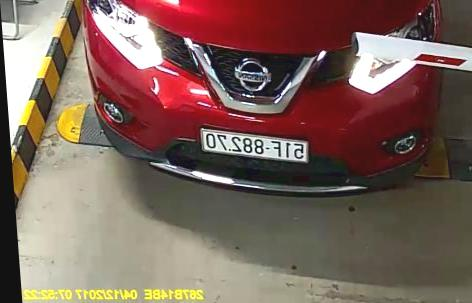License_Plate: (197, 127, 310, 166)
